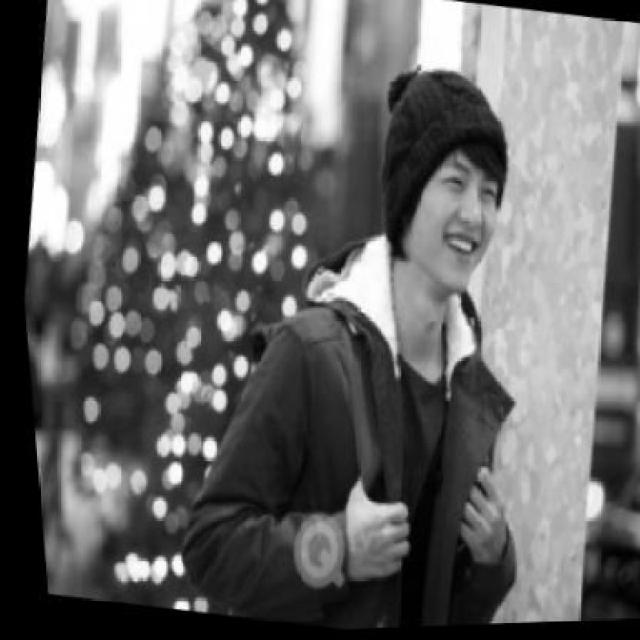hat: (353, 56, 525, 281)
